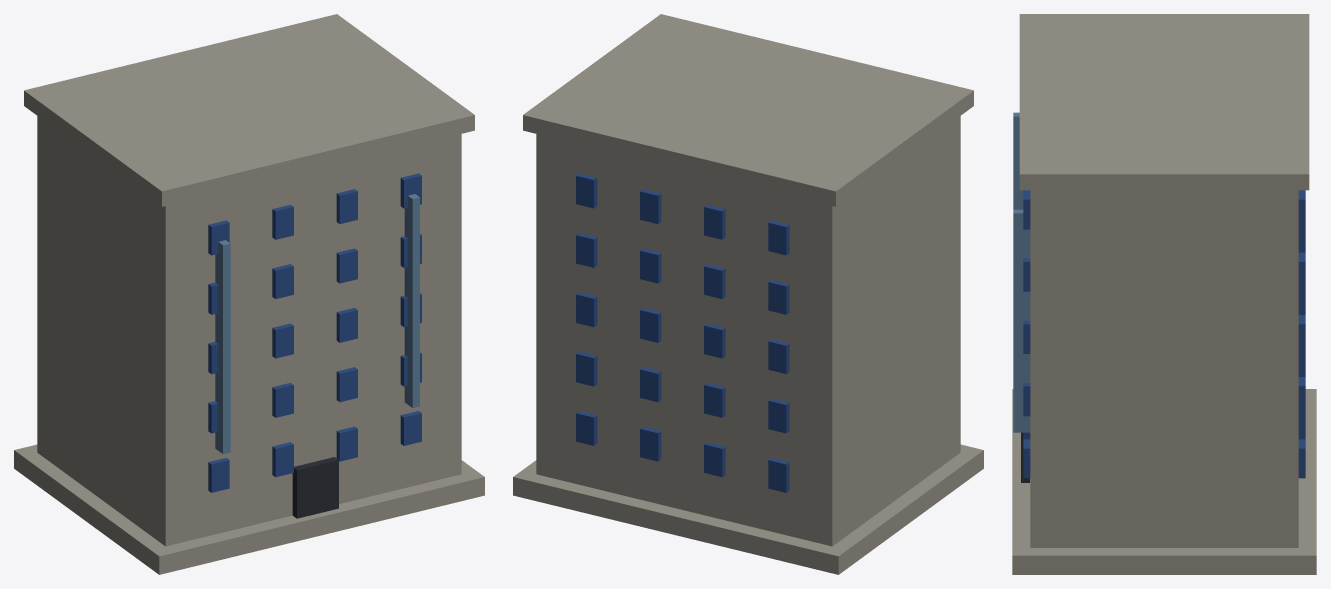
Rendered from bld_residential_a07.glb.
3 renders of one model, left to right at view 1: azimuth 30°, elevation 25°; view 2: azimuth 150°, elevation 25°; view 3: azimuth 270°, elevation 25°, orthographic. The views are drawn at different scales.
Parts seen in each view (by area): view 1: body; view 2: body; view 3: body.
Boxes of the visible parts, x1,y1,x2,y2 form: body: [14, 14, 484, 574]; body: [513, 14, 983, 574]; body: [1012, 14, 1316, 574].
Size of what is drawn, in the model's own units: 6.6 by 7.35 by 5.1.
